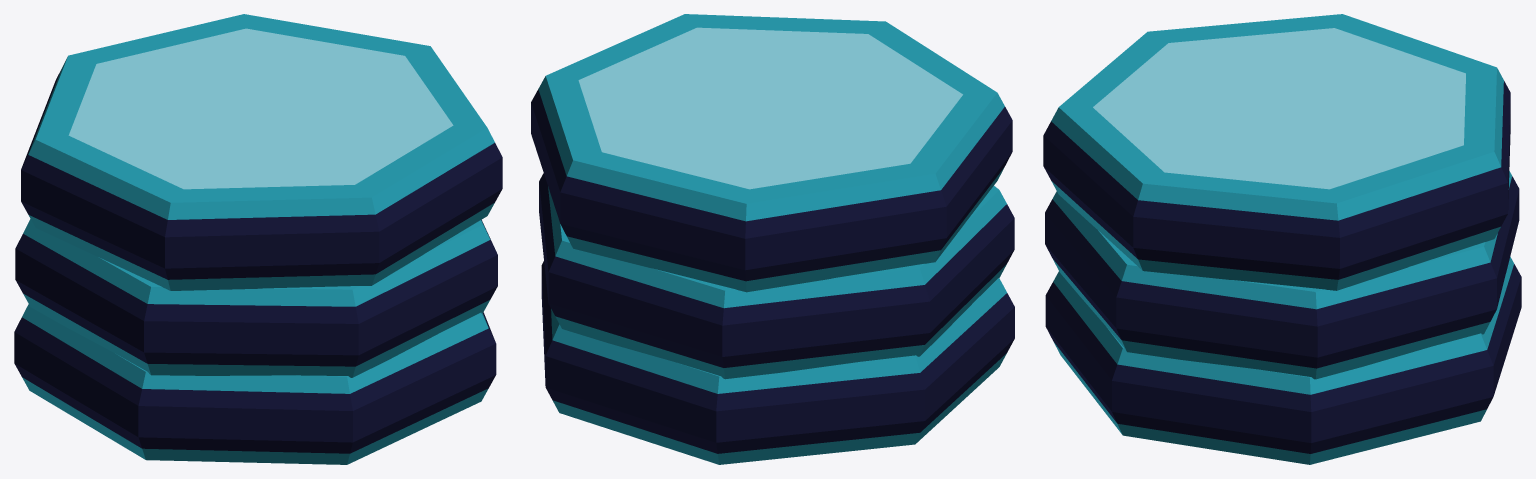
The model's file is Buckles.3Stack.fbx.
3 views of the same model, side by side, from view 1: azimuth 30°, elevation 25°; view 2: azimuth 150°, elevation 25°; view 3: azimuth 270°, elevation 25° (orthographic).
Parts seen in each view (by area): view 1: Buckles.3Stack; view 2: Buckles.3Stack; view 3: Buckles.3Stack.
Boxes of the visible parts, <box> form: Buckles.3Stack: <box>14,14,502,464</box>; Buckles.3Stack: <box>531,14,1014,464</box>; Buckles.3Stack: <box>1043,14,1521,464</box>.
Size of the model in its own units: 22.02 by 13.08 by 21.82.
